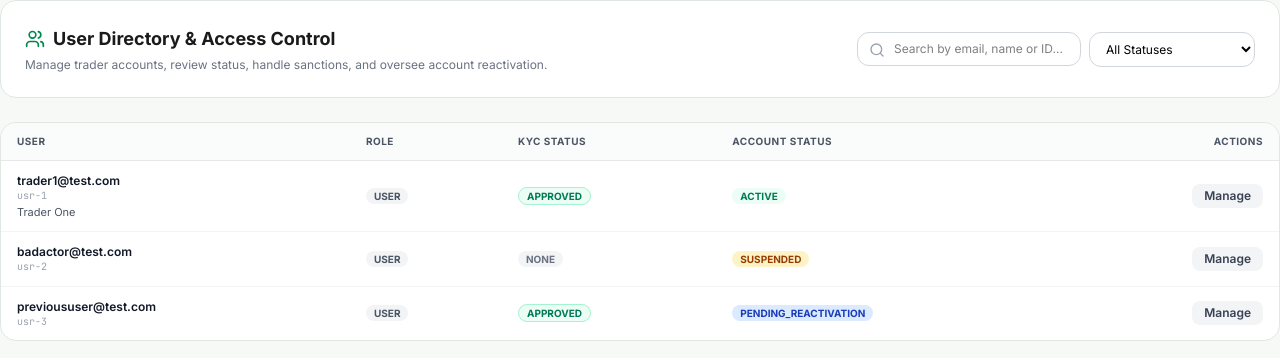
Test: UsersTab › filters users by search term
This screenshot has width=1280, height=358.
Step 1. Type "badactor" into the field with placeholder "Search by email, name or ID..." → (969, 49), box [857,32,1081,66]
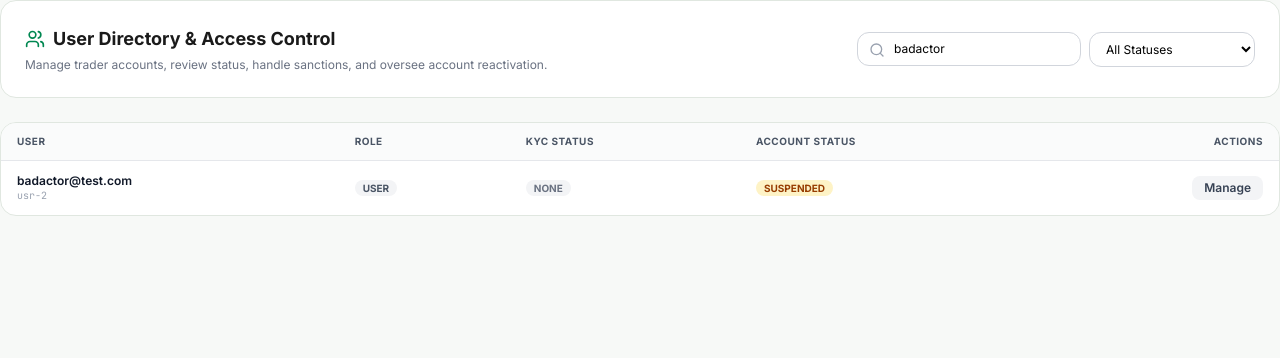
Expected: the text "badactor@test.com" is shown, [17,173,132,188]
Result: the text "trader1@test.com" is gone
